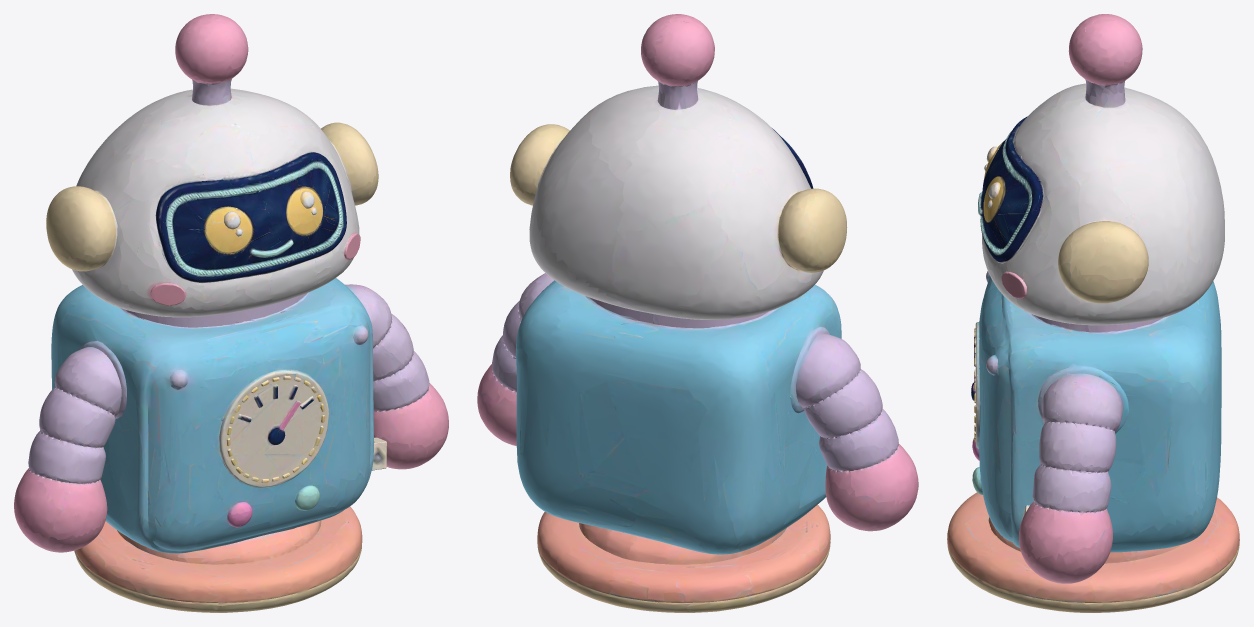
Rendered from spacerobot.gen.glb.
3 renders of one model, left to right at view 1: azimuth 30°, elevation 25°; view 2: azimuth 150°, elevation 25°; view 3: azimuth 270°, elevation 25°, orthographic.
Parts seen in each view (by area): view 1: LOD0; view 2: LOD0; view 3: LOD0.
Boxes of the visible parts, <box> form: LOD0: <box>14,14,448,612</box>; LOD0: <box>477,14,918,612</box>; LOD0: <box>947,14,1239,612</box>.
Size of what is drawn, in the model's own units: 0.1811 by 0.22 by 0.108.
Materials: 1 (1 with a texture image).
